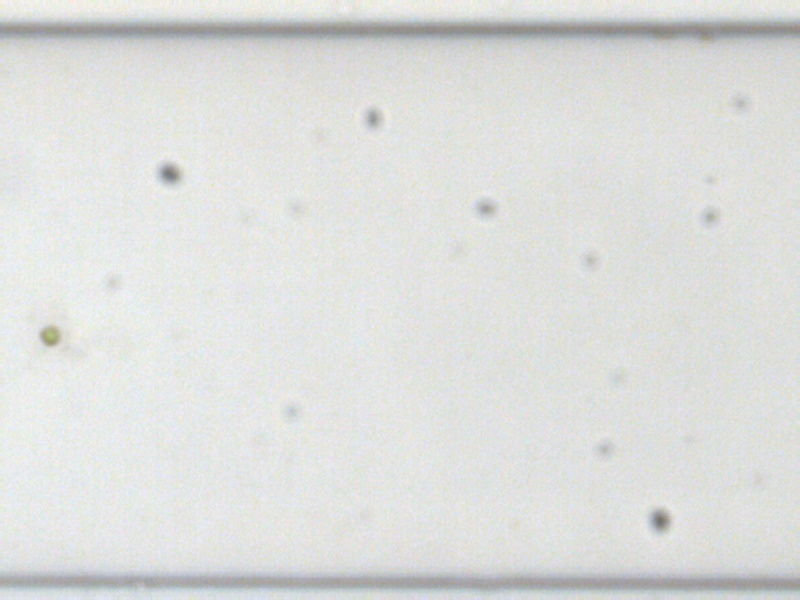Chlorella: (38, 324, 61, 346)
